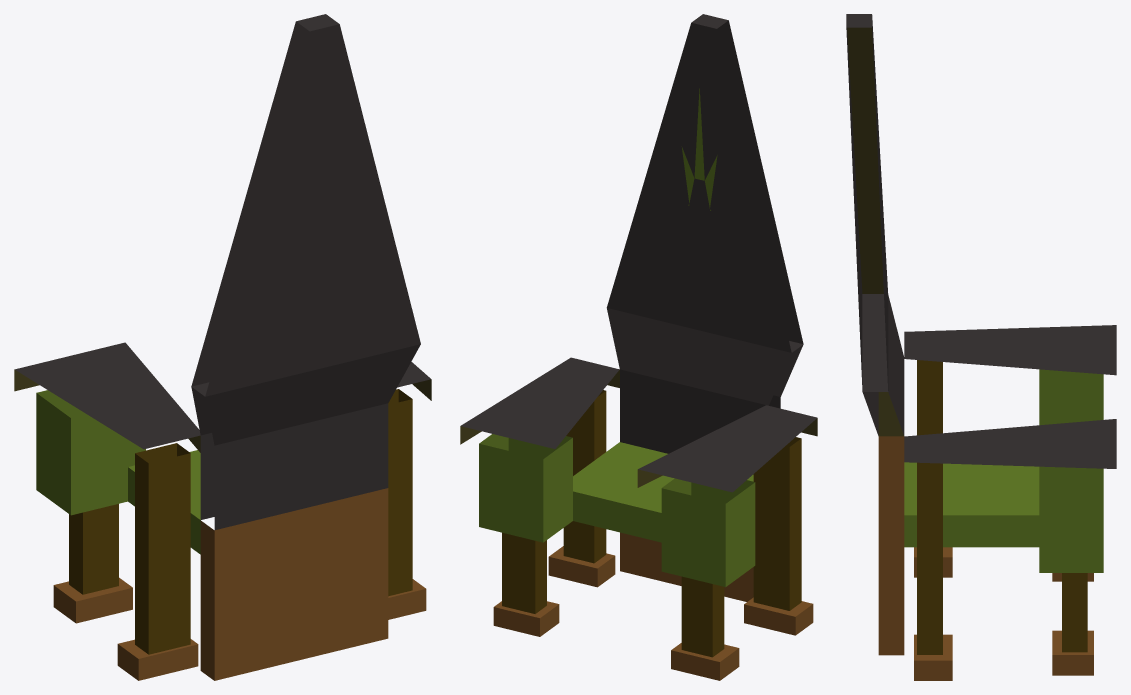
File: obj_throne_4_0.obj
3 views of the same model, side by side, from view 1: azimuth 30°, elevation 25°; view 2: azimuth 150°, elevation 25°; view 3: azimuth 270°, elevation 25° (orthographic). The views are drawn at different scales.
Bounding box in the file's own units: 0.8281 × 1.6 × 0.6562.
